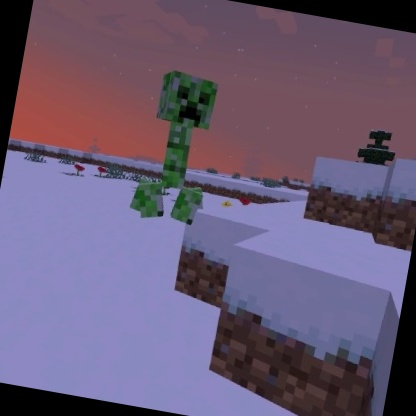creeper: (124, 64, 229, 231)
